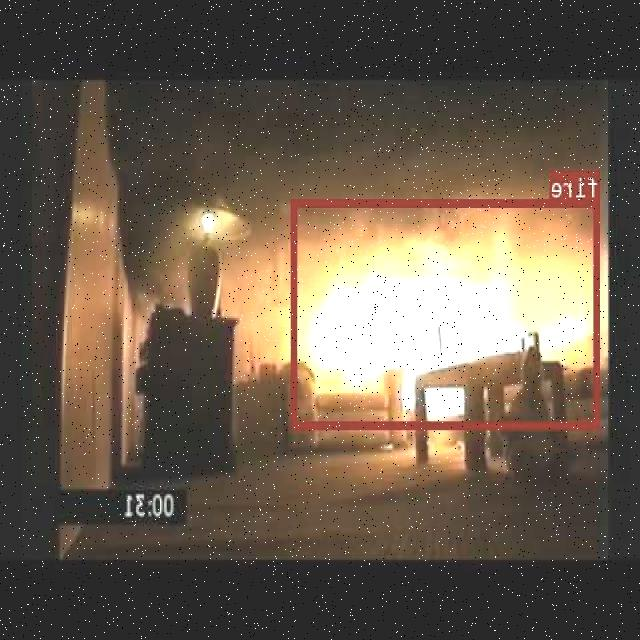fire: (292, 198, 601, 427)
